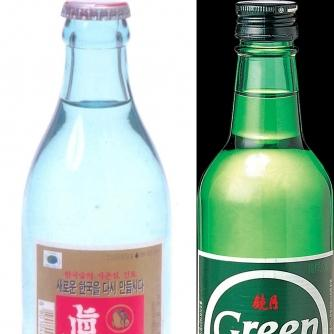soju: (20, 1, 170, 334), (194, 1, 333, 334)
